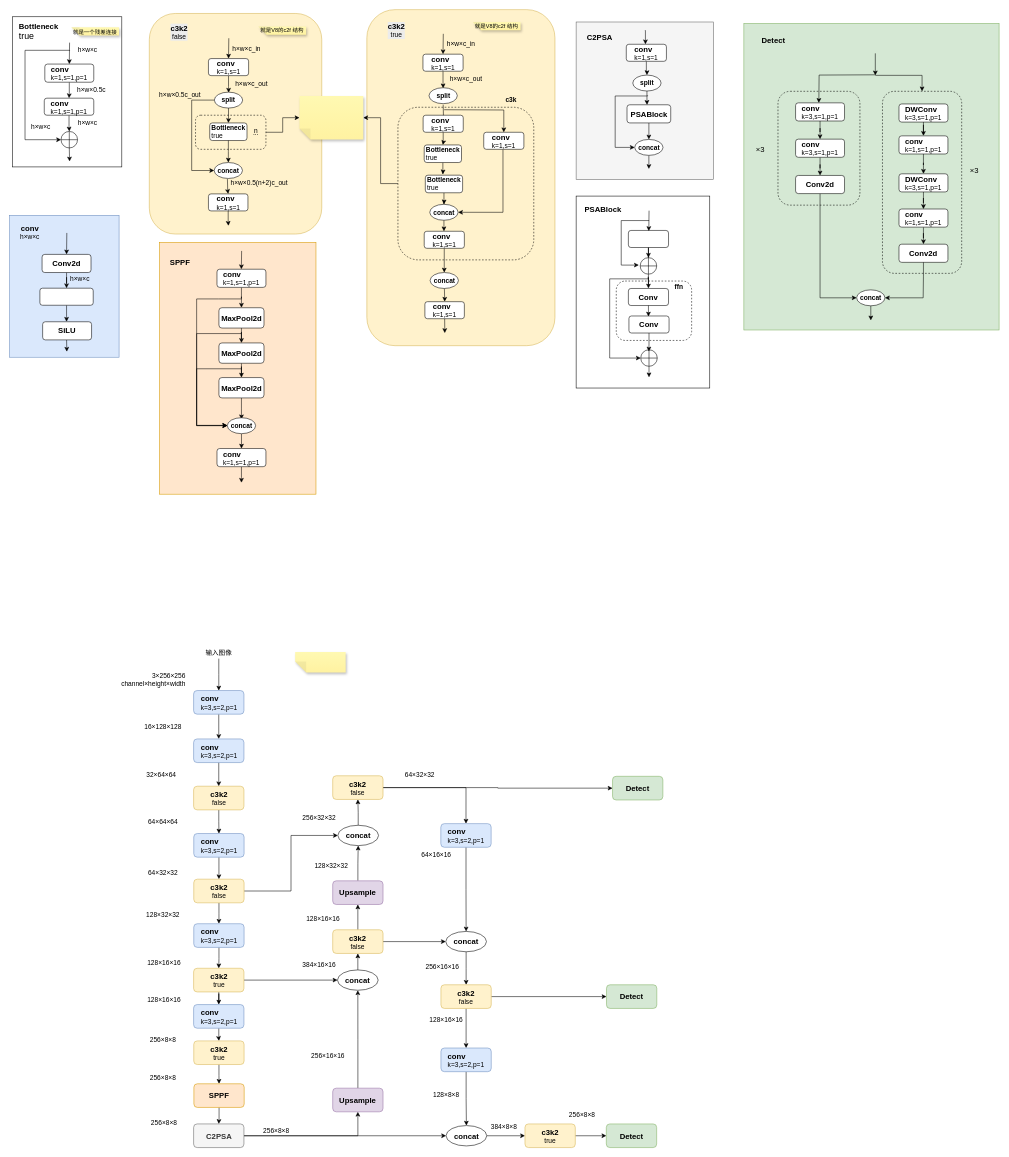
Image size: 1009x1157. Some labels were removed from this diagram. Here are the shapes that lost their labels. From the top down, the centre of each, then its label:
At point (331, 118): "这个地方是个数组，也就是说split完后可以并列走多个这样的结构再继续后面的拼接".
At point (648, 239): "Attention".
At point (66, 296): "BatchNorm2d".
At point (321, 663): "YOLO11n".
